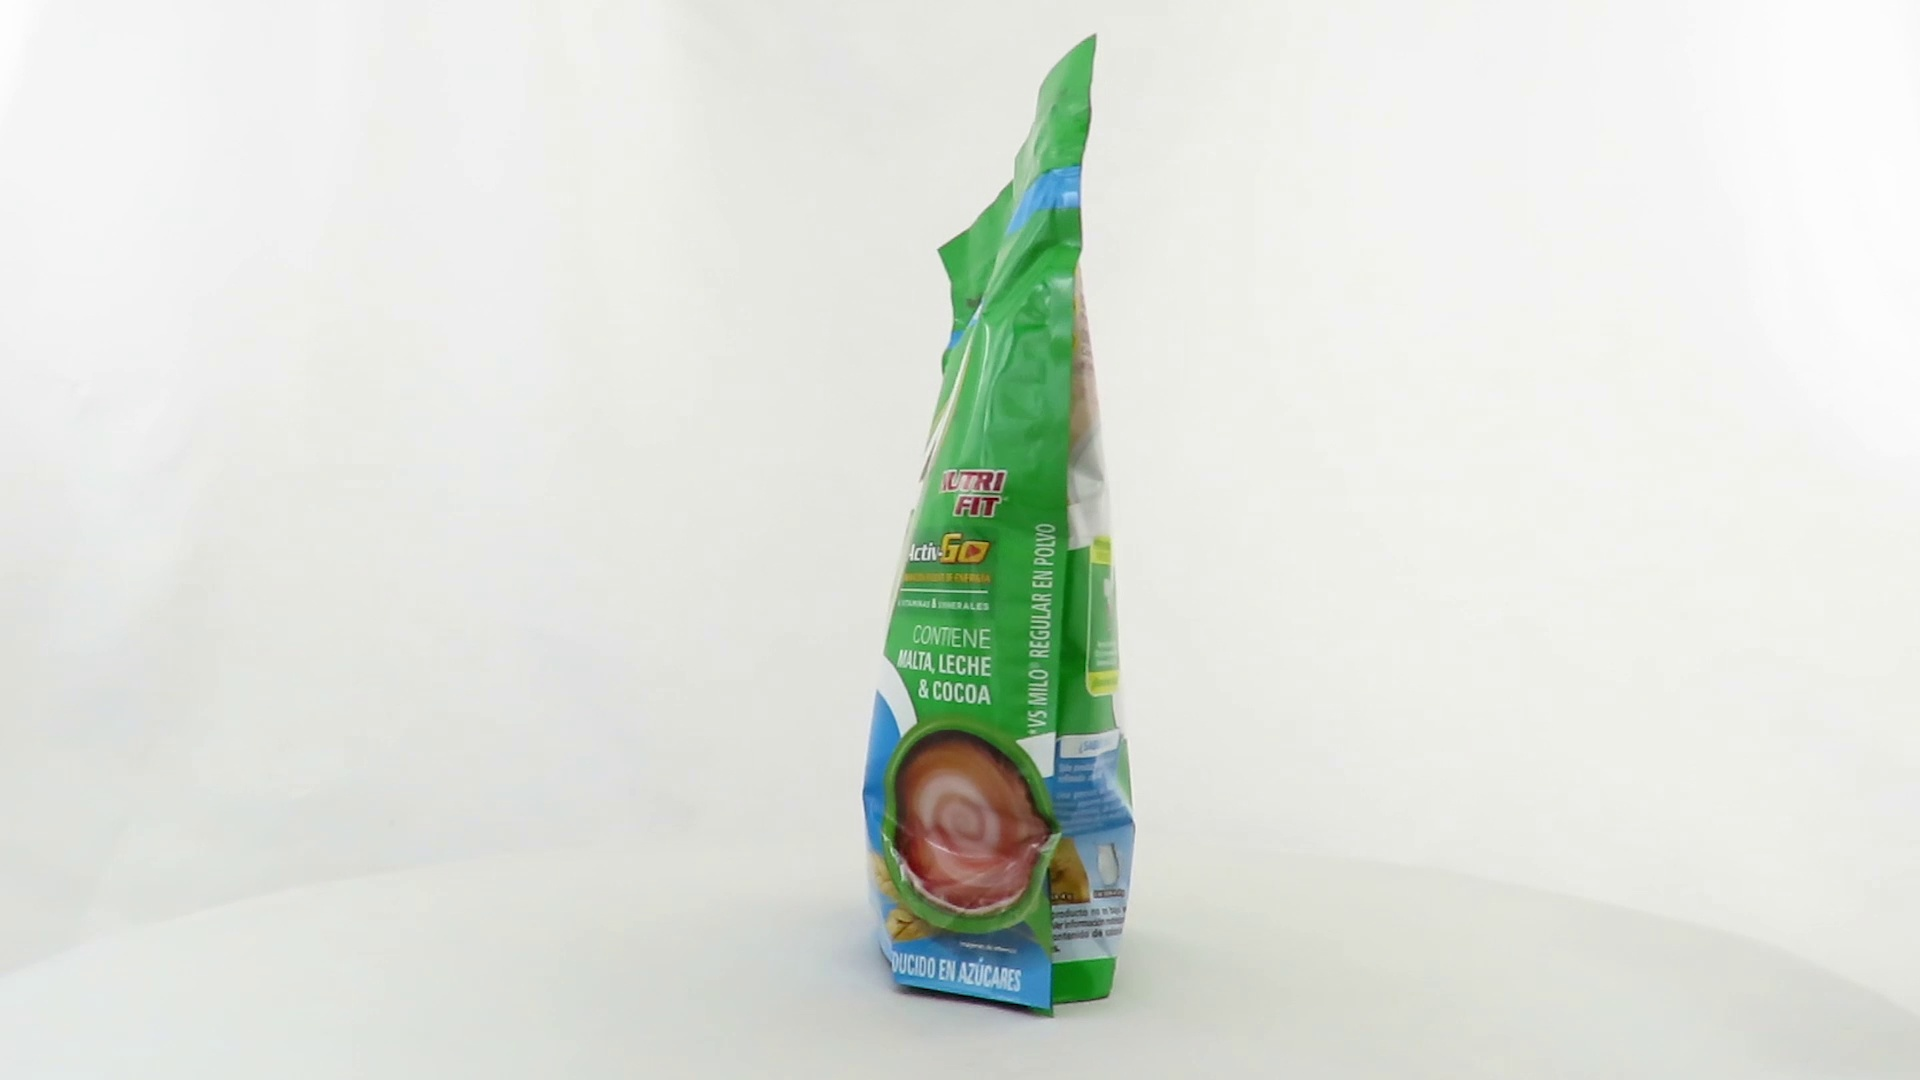COL0170205DYP50000: (857, 28, 1142, 1025)
